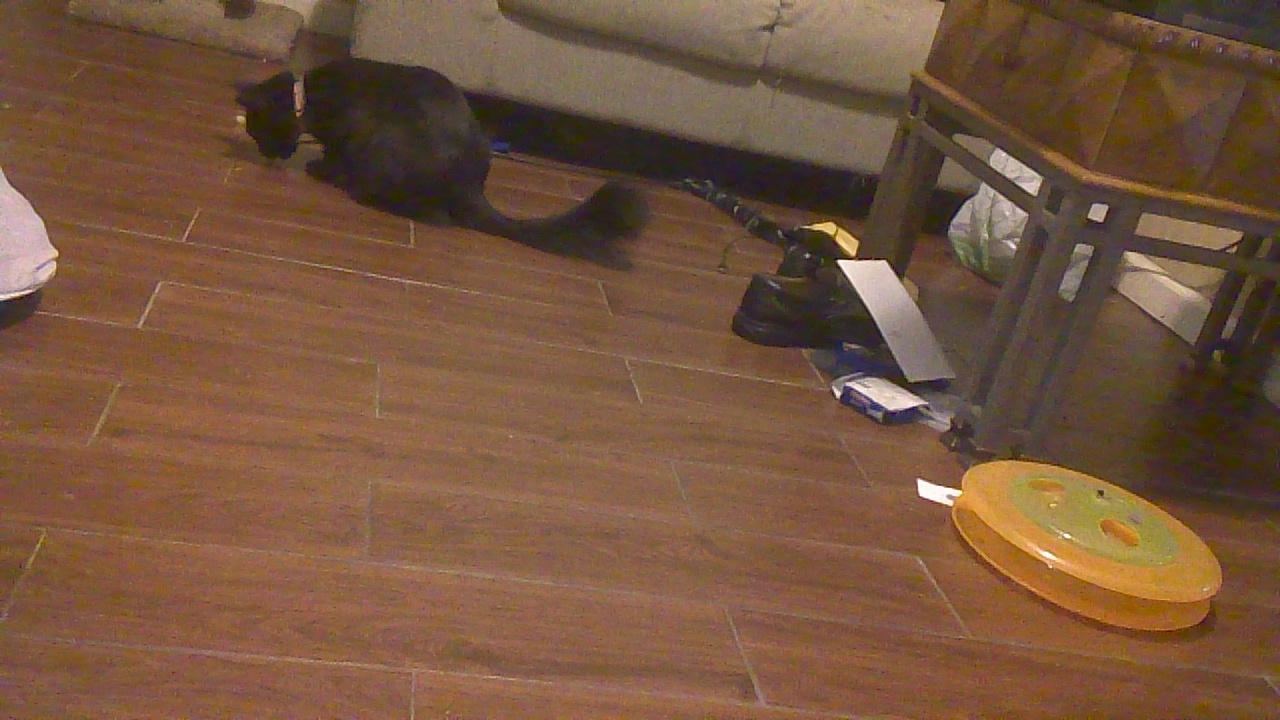cat: (221, 60, 659, 275)
